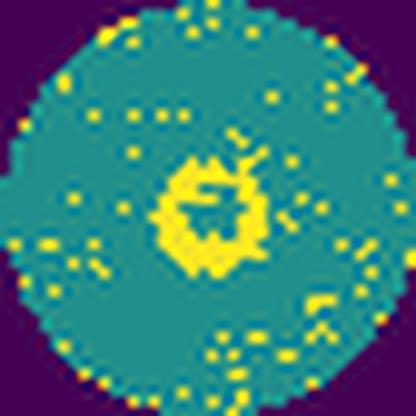Center: (143, 137, 277, 280)
